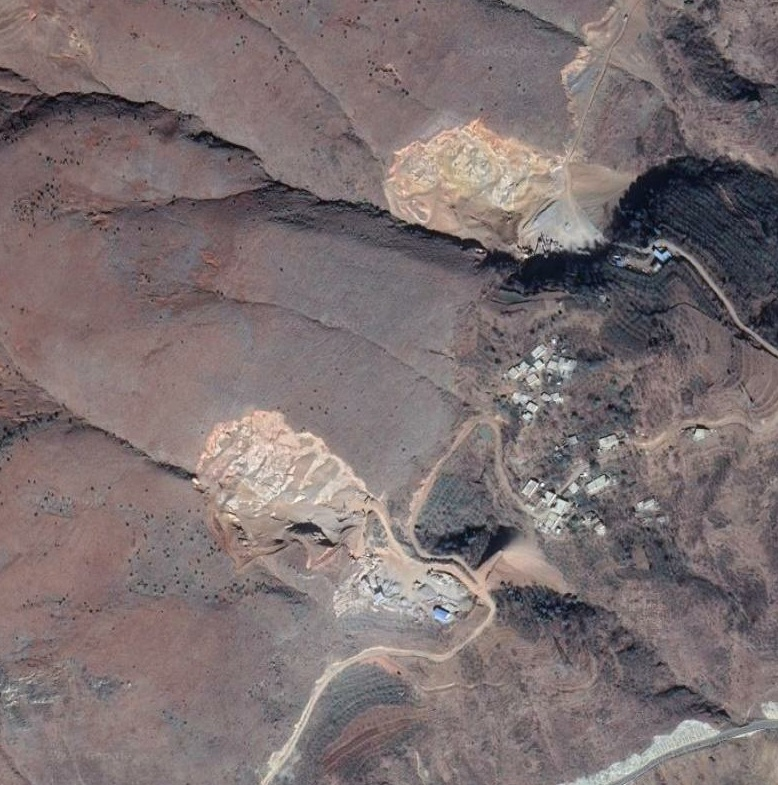slope: (200, 404, 475, 617), (382, 115, 633, 265), (567, 717, 721, 784)
